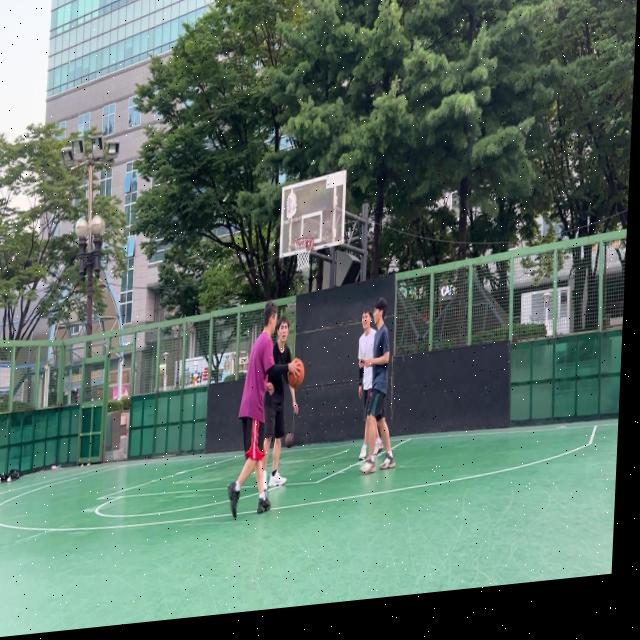basketball: (287, 357, 305, 389), (284, 432, 295, 449)
hoop: (293, 235, 315, 273)
